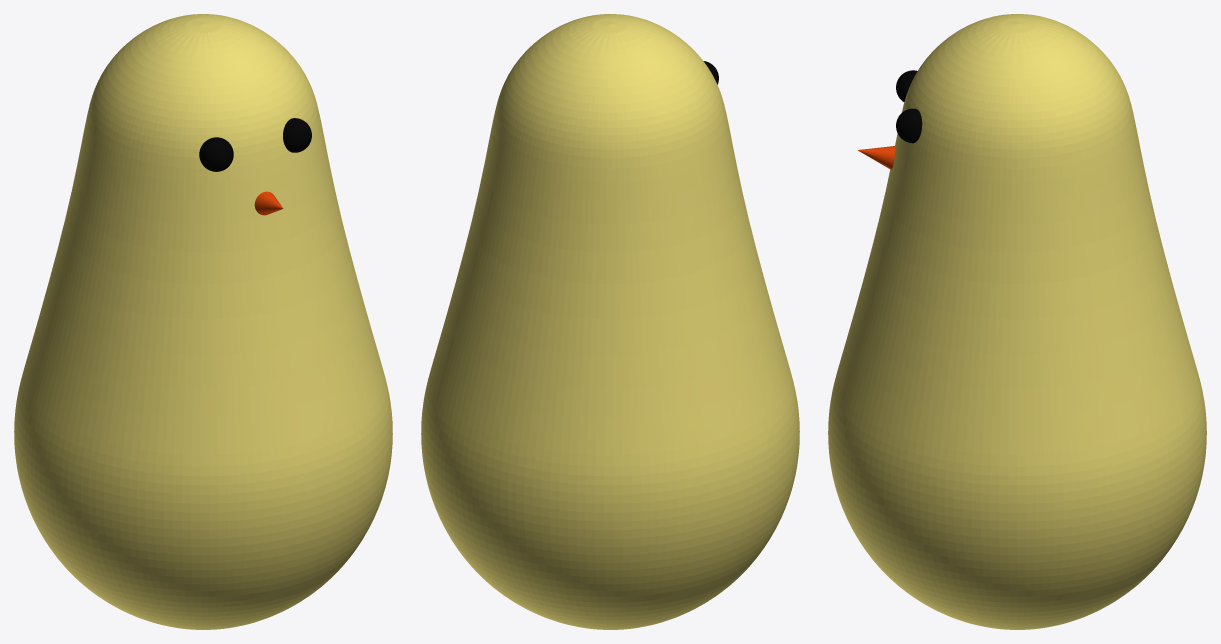
File: player.fbx
The picture shows the model from 3 angles, left to right: view 1: azimuth 30°, elevation 25°; view 2: azimuth 150°, elevation 25°; view 3: azimuth 270°, elevation 25°; orthographic projection.
Parts seen in each view (by area): view 1: Player; view 2: Player; view 3: Player.
Boxes of the visible parts, x1,y1,x2,y2 form: Player: [14, 14, 392, 629]; Player: [421, 14, 799, 629]; Player: [828, 14, 1206, 629].
Bounding box in the file's own units: 94.71 × 163 × 94.71.
